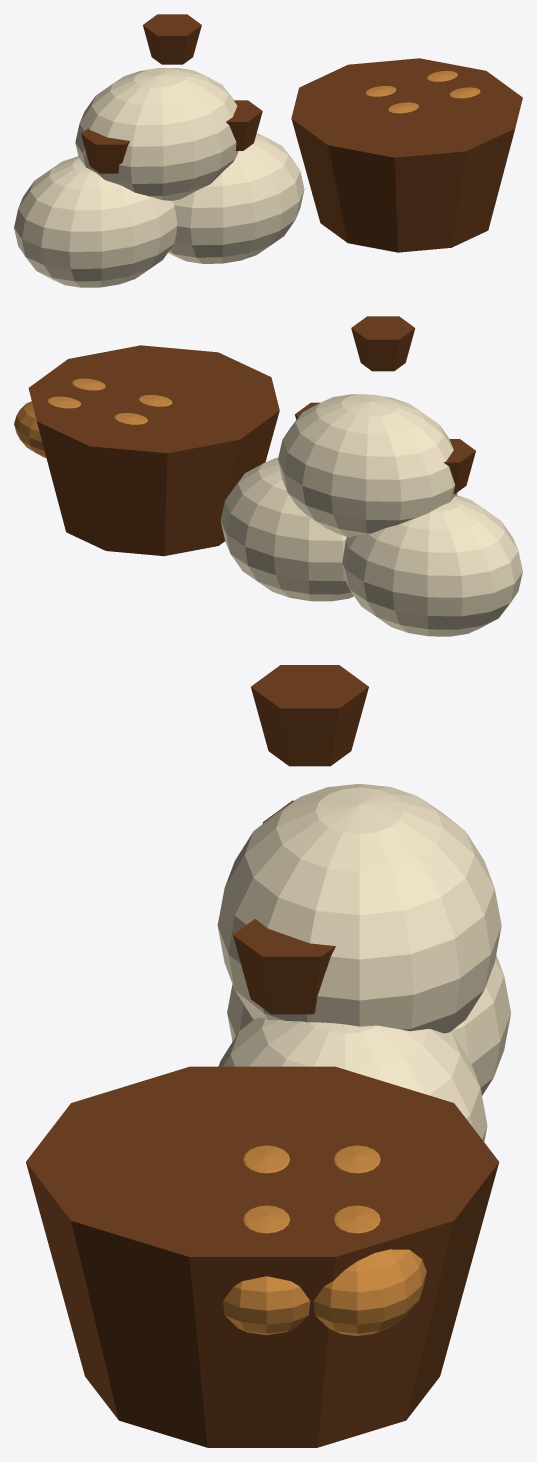
The model's file is shop_bakery_yard.gltf.
The picture shows the model from 3 angles, top to bottom: view 1: azimuth 30°, elevation 25°; view 2: azimuth 150°, elevation 25°; view 3: azimuth 270°, elevation 25°; orthographic projection. The views are drawn at different scales.
Parts seen in each view (by area): view 1: ShopBakeryYardShopCream, ShopBakeryYardShopLeather, ShopBakeryYardShopBread; view 2: ShopBakeryYardShopCream, ShopBakeryYardShopLeather, ShopBakeryYardShopBread; view 3: ShopBakeryYardShopLeather, ShopBakeryYardShopCream, ShopBakeryYardShopBread.
Part boxes in pixels (x1,y1,x2,y2): ShopBakeryYardShopCream: (14, 68, 304, 287); ShopBakeryYardShopLeather: (81, 14, 522, 252); ShopBakeryYardShopBread: (365, 70, 480, 113); ShopBakeryYardShopCream: (220, 394, 522, 636); ShopBakeryYardShopLeather: (28, 316, 475, 556); ShopBakeryYardShopBread: (14, 378, 172, 458); ShopBakeryYardShopLeather: (26, 665, 499, 1447); ShopBakeryYardShopCream: (217, 783, 510, 1141); ShopBakeryYardShopBread: (223, 1145, 426, 1335).
Size of what is drawn, in the model's own units: 1.8 by 0.94 by 0.82.
